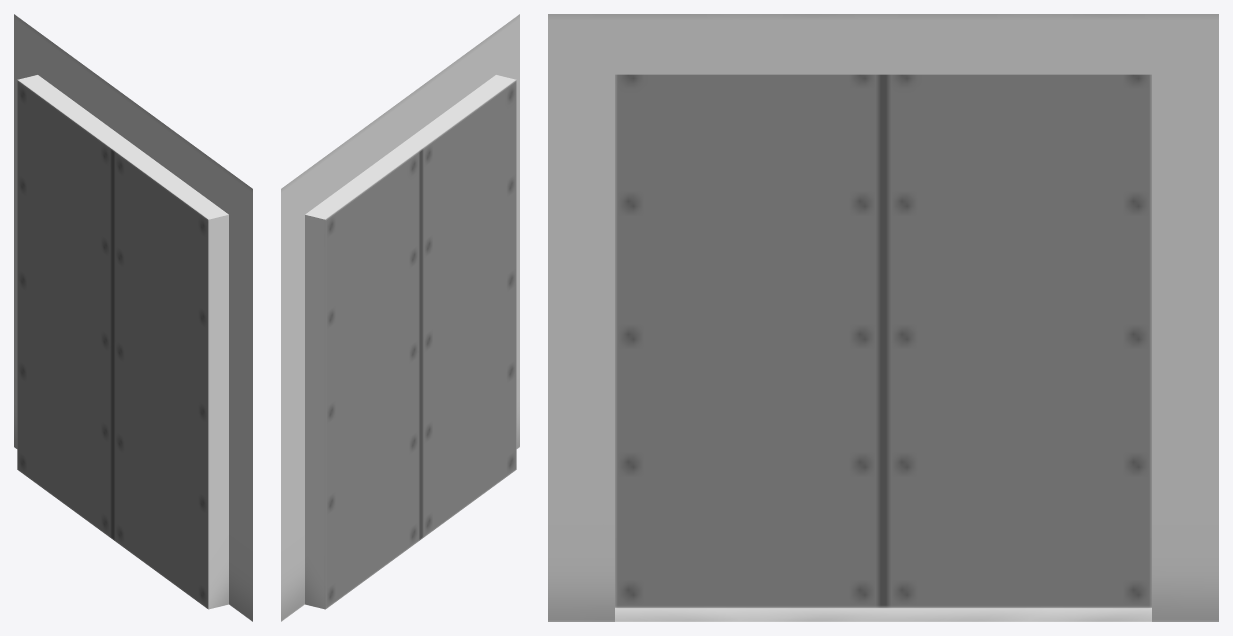
The model's file is WallWithDoors.fbx.
3 renders of one model, left to right at view 1: azimuth 30°, elevation 25°; view 2: azimuth 150°, elevation 25°; view 3: azimuth 270°, elevation 25°, orthographic. The views are drawn at different scales.
Visible parts, largest first — view 1: Wall; view 2: Wall; view 3: Wall.
Part boxes in pixels (<box>): Wall: <box>14,14,252,621</box>; Wall: <box>281,14,519,621</box>; Wall: <box>548,14,1218,621</box>.
Bounding box in the file's own units: 10 × 200 × 200.
1 material, 1 textured.
